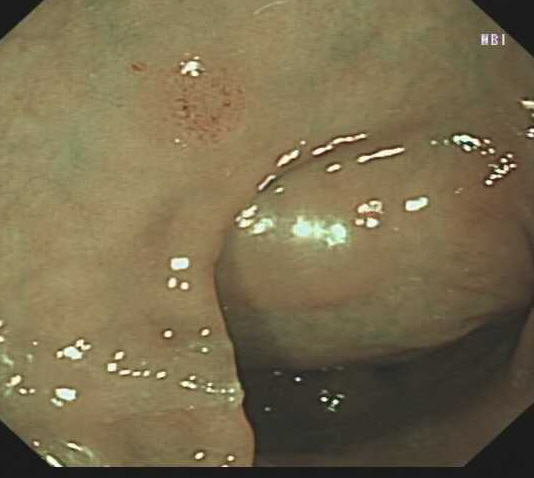adenoma: (150, 51, 250, 150)
